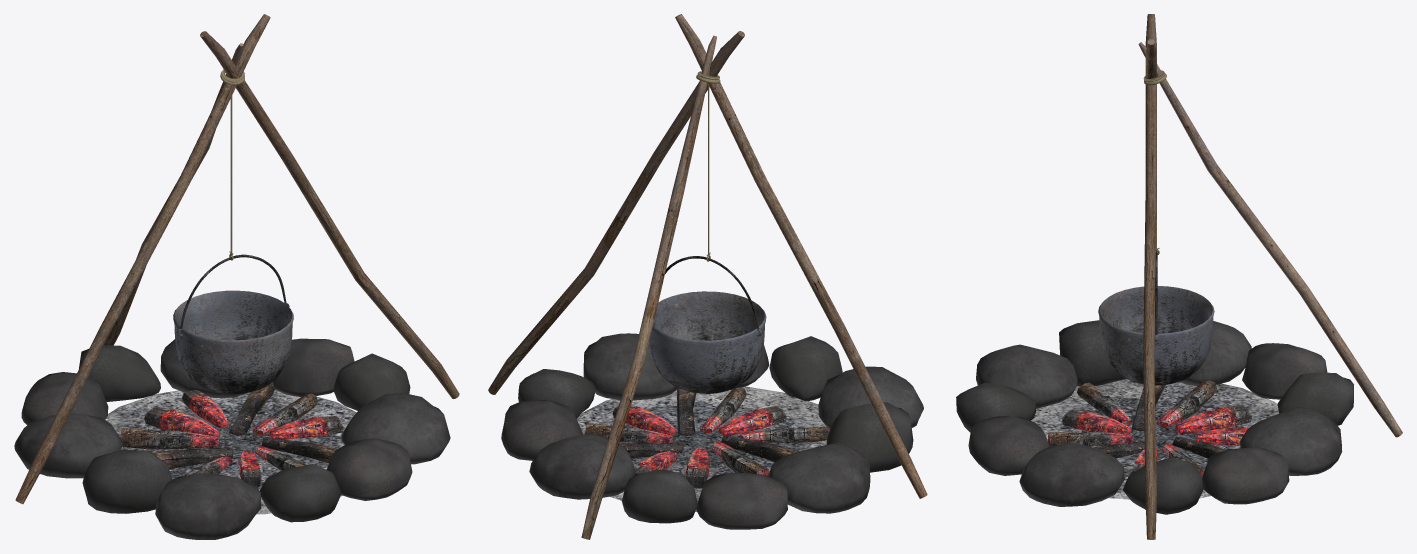
The model's file is kotel.FBX.
The picture shows the model from 3 angles, left to right: view 1: azimuth 30°, elevation 25°; view 2: azimuth 150°, elevation 25°; view 3: azimuth 270°, elevation 25°; orthographic projection. The views are drawn at different scales.
Visible parts, largest first — view 1: Rocks, woods_and_ground, utensil_and_rope; view 2: Rocks, woods_and_ground, utensil_and_rope; view 3: Rocks, woods_and_ground, utensil_and_rope.
Boxes of the visible parts, x1,y1,x2,y2 form: Rocks: (14,338,450,539); woods_and_ground: (15,14,459,514); utensil_and_rope: (173,69,293,394); Rocks: (501,333,923,529); woods_and_ground: (488,14,927,539); utensil_and_rope: (649,71,766,393); Rocks: (956,320,1353,514); woods_and_ground: (1031,14,1402,539); utensil_and_rope: (1098,70,1214,385).
Size of the model in its own units: 24.56 by 22.84 by 22.32.
